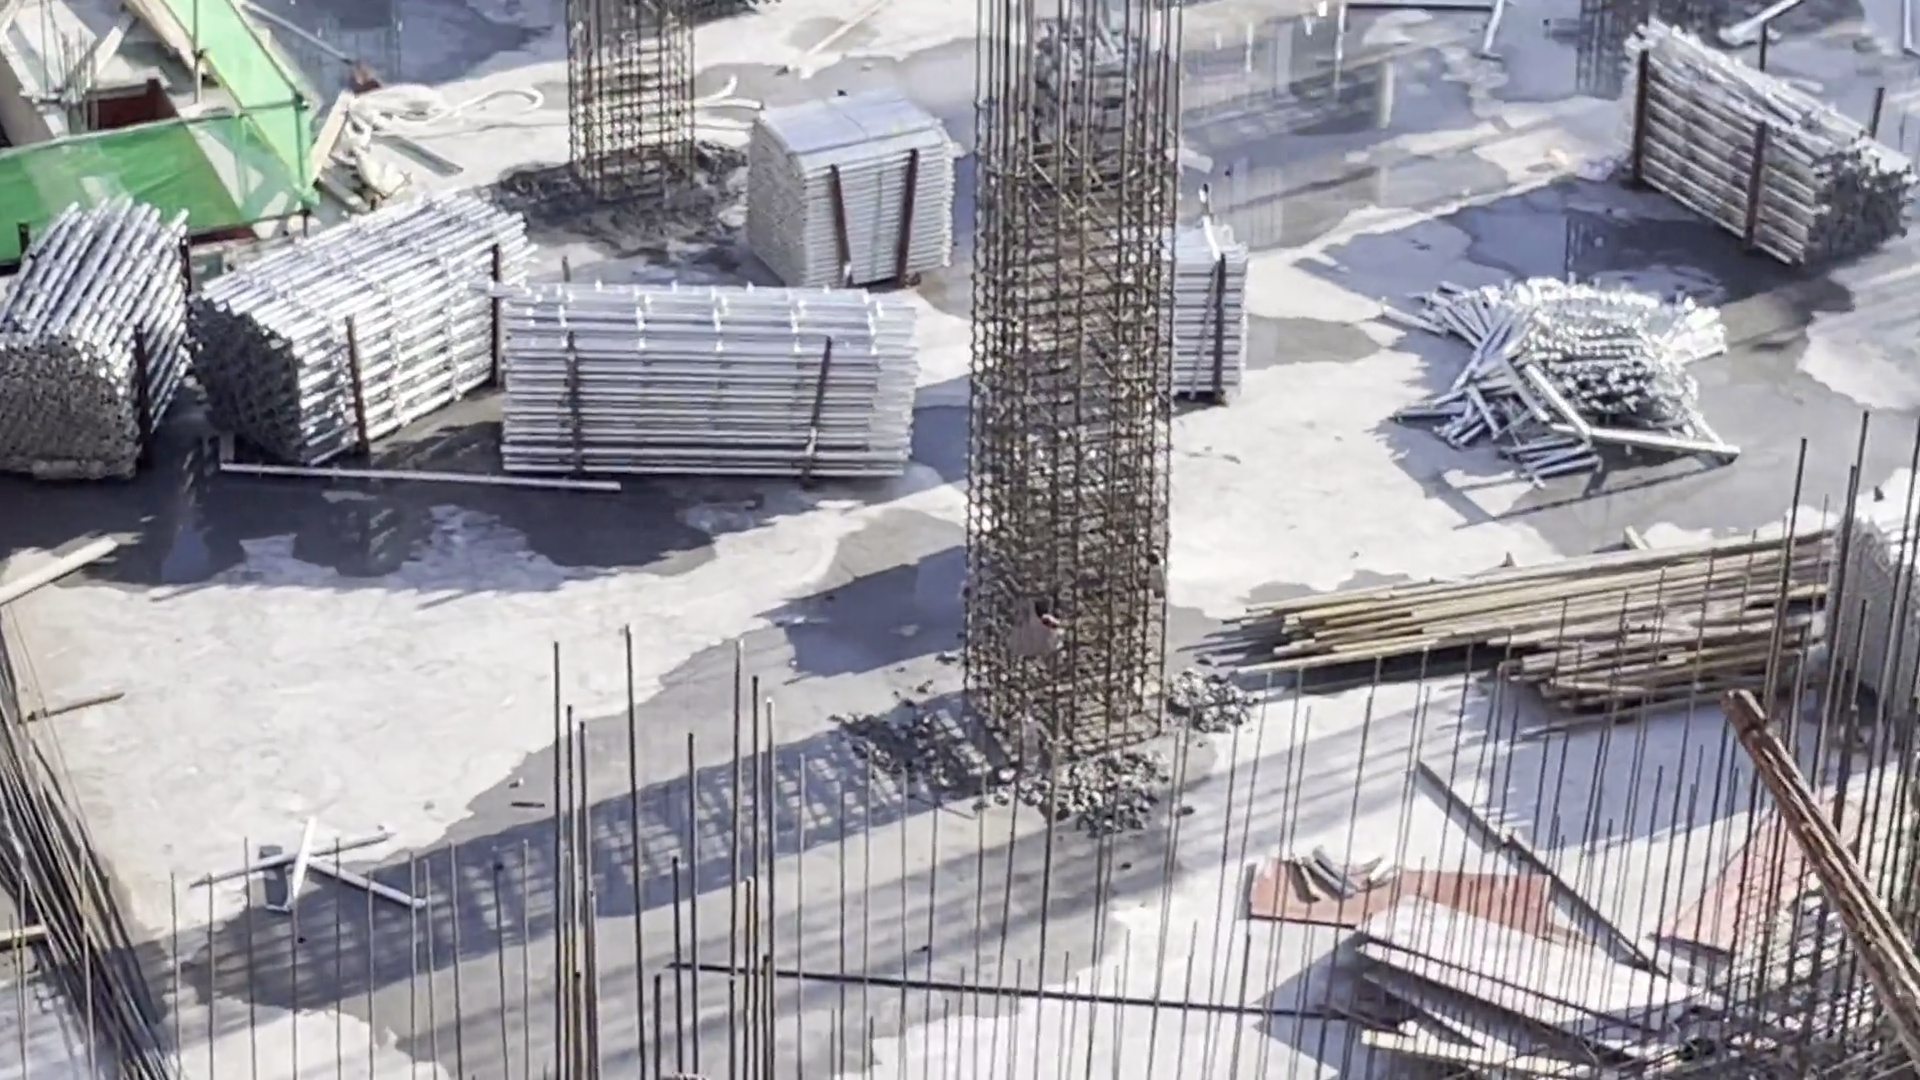board: (1354, 913, 1667, 1064)
rebar: (1, 702, 190, 1068)
scaffold: (193, 198, 508, 400), (492, 295, 887, 455), (1466, 281, 1720, 472), (1631, 69, 1900, 239), (8, 233, 164, 477), (771, 124, 935, 280), (1130, 227, 1237, 393), (1833, 520, 1920, 696)
